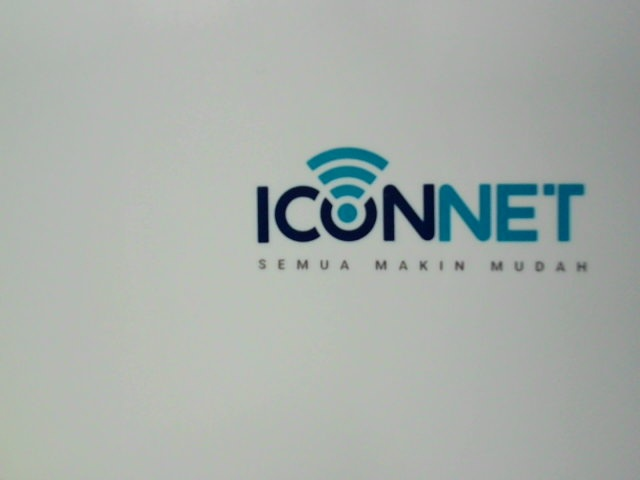BM_ICONNET: (231, 132, 605, 292)
